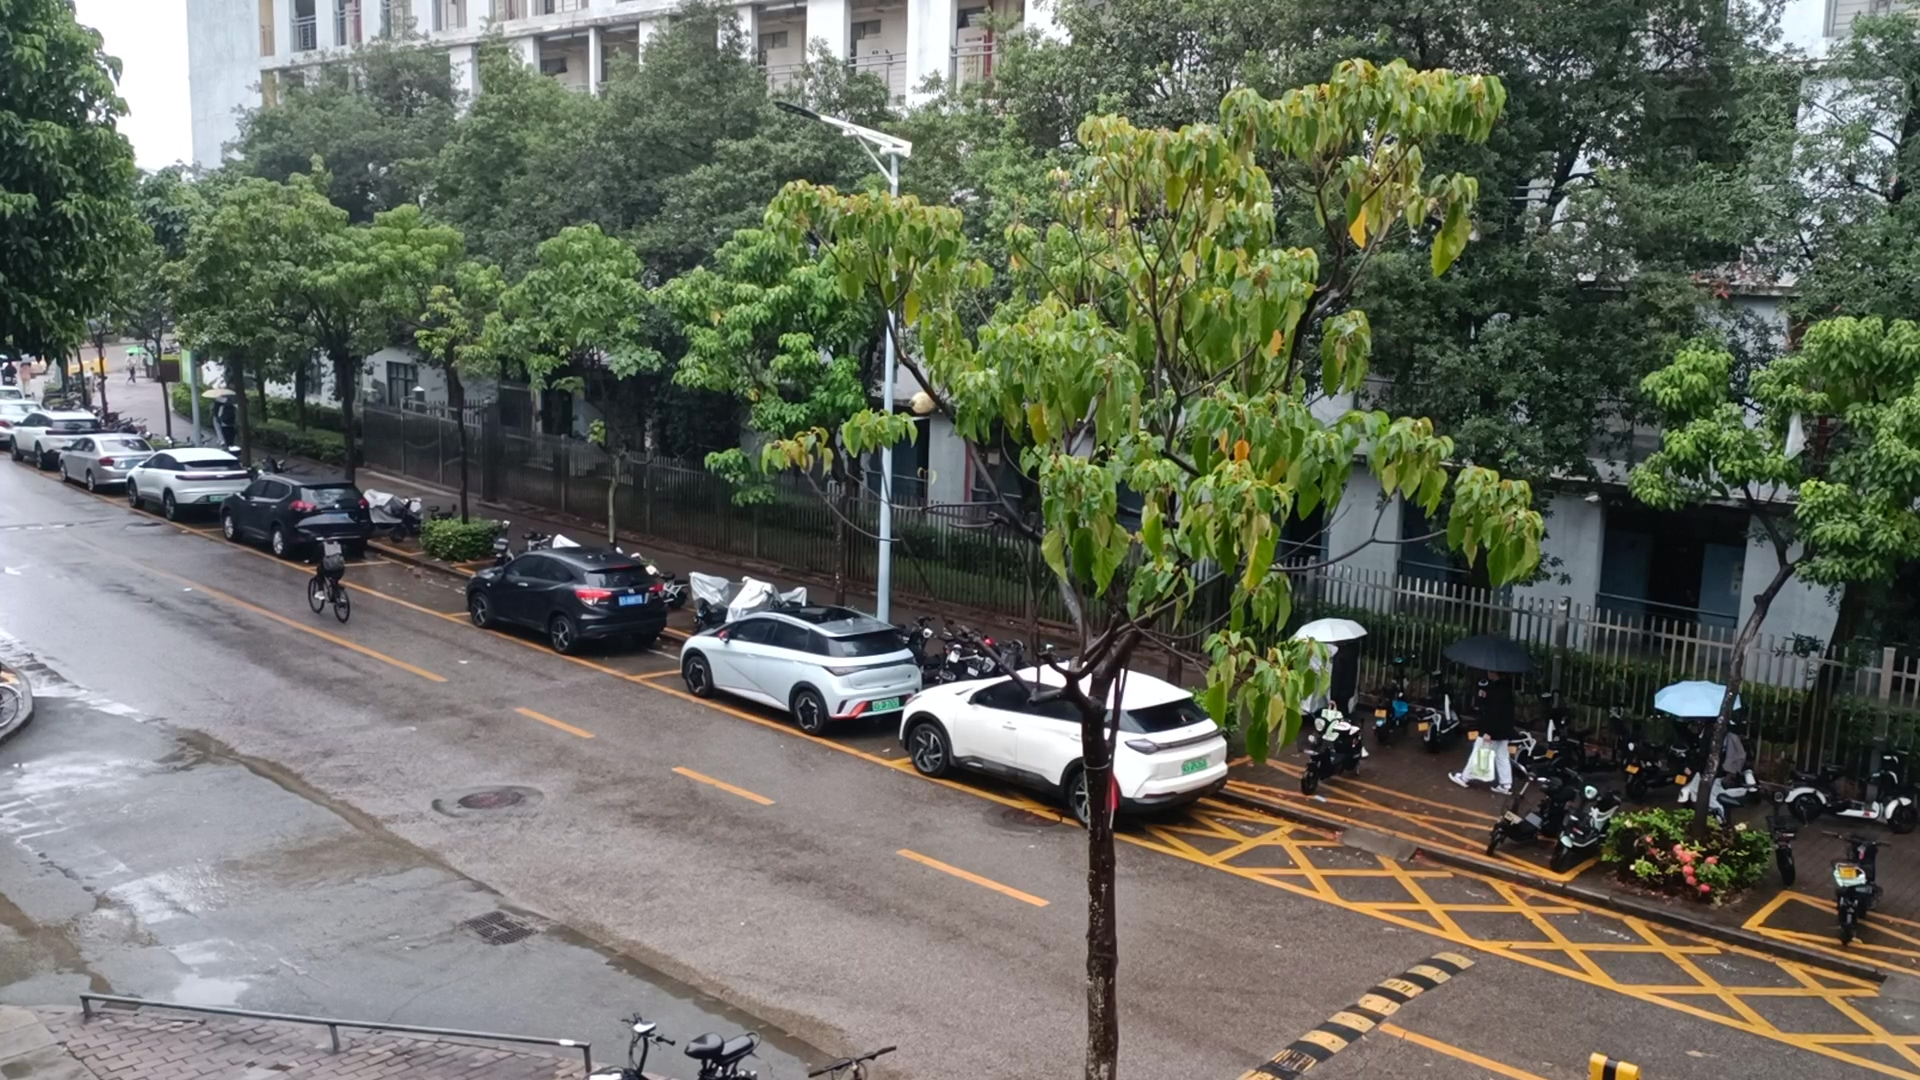space-empty: (308, 553, 515, 622)
space-occupied: (623, 657, 972, 763), (446, 597, 722, 681), (186, 518, 398, 574), (98, 489, 247, 535), (40, 463, 176, 506)
